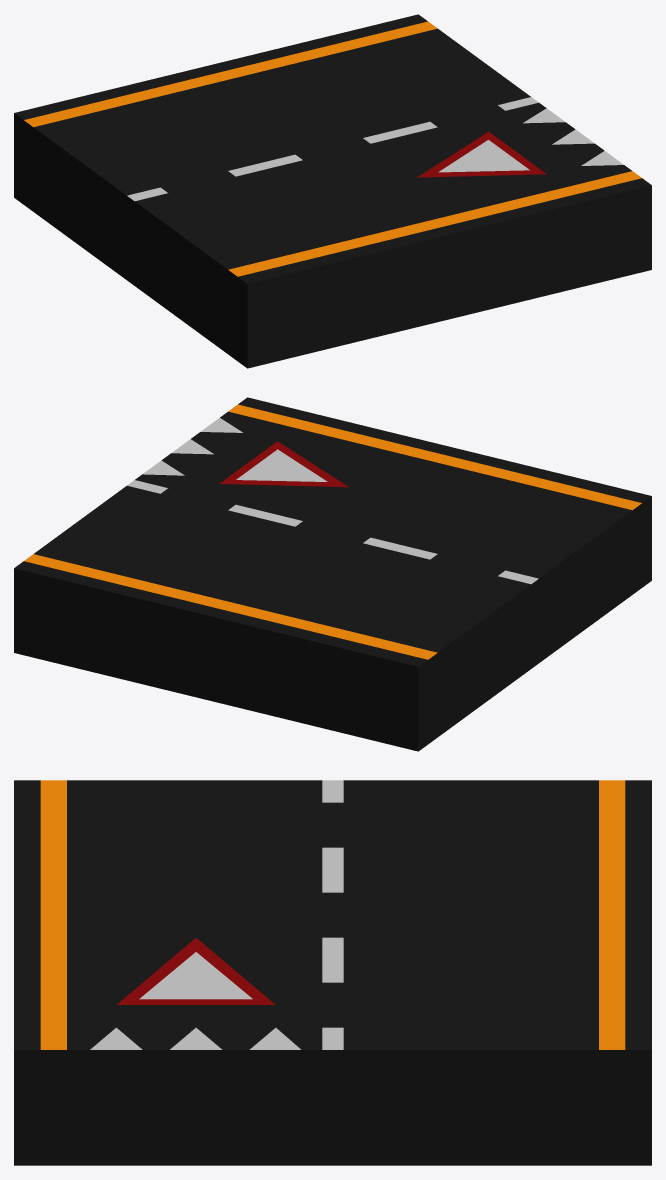
File: GIVE_WAY_straight_road.obj
3 views of the same model, one above another, from view 1: azimuth 30°, elevation 25°; view 2: azimuth 150°, elevation 25°; view 3: azimuth 270°, elevation 25° (orthographic). The views are drawn at different scales.
Parts seen in each view (by area): view 1: Cube_Cube.004; view 2: Cube_Cube.004; view 3: Cube_Cube.004.
Boxes of the visible parts, bbox=[...] form: Cube_Cube.004: bbox=[14, 14, 651, 368]; Cube_Cube.004: bbox=[14, 397, 651, 751]; Cube_Cube.004: bbox=[14, 780, 651, 1165].
Size of the model in its own units: 1 by 0.2 by 1.
